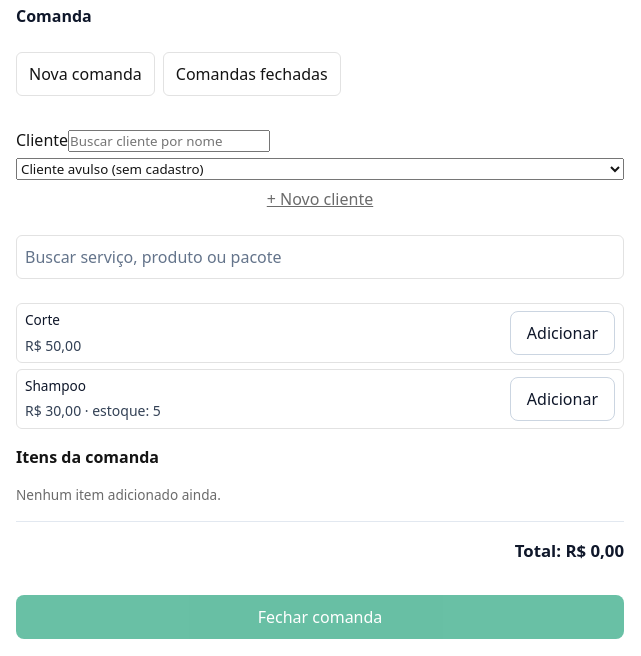
Test case: ComandaPage › maps an insufficient-stock conflict from checkout_close to a Portuguese message
Expected: the text "Shampoo" is shown, [25,376,86,395]
Click the button "Adicionar" in the row of "Shampoo" at (562, 399), box [510,377,615,421]
(page scrolled)
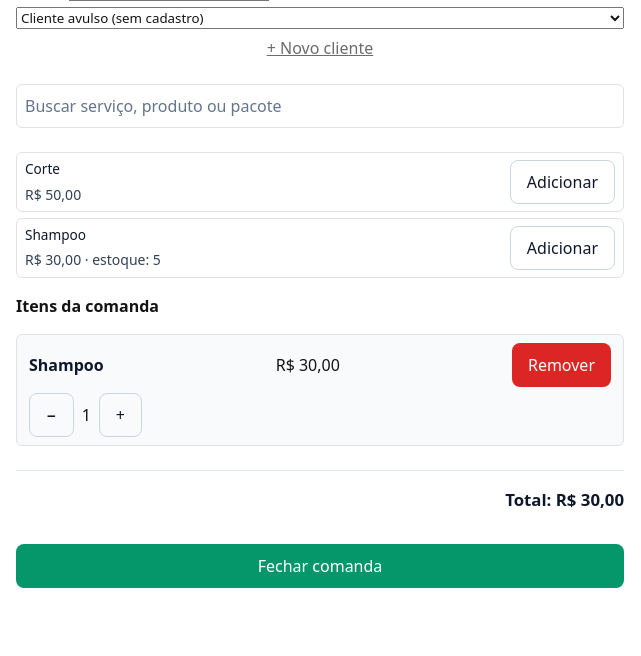
Click the button "Fechar comanda" at (320, 566), box [16,544,624,588]
(page scrolled)
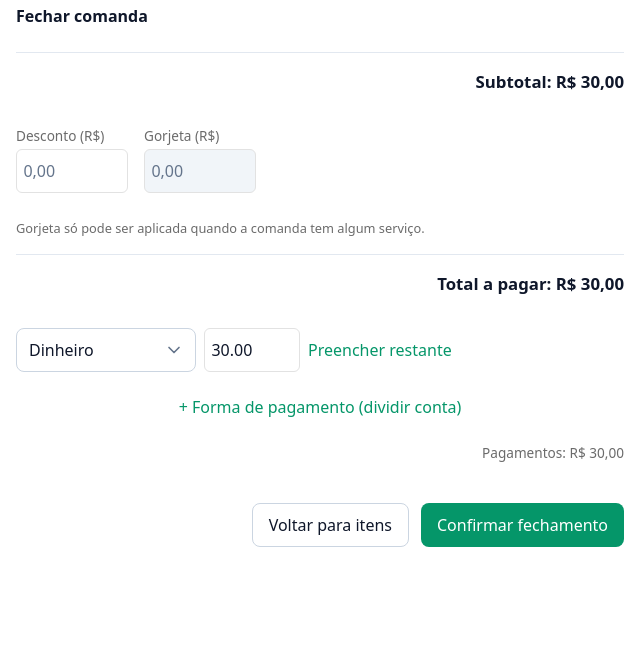
Click the button "Confirmar fechamento" at (522, 525), box [421,503,624,547]
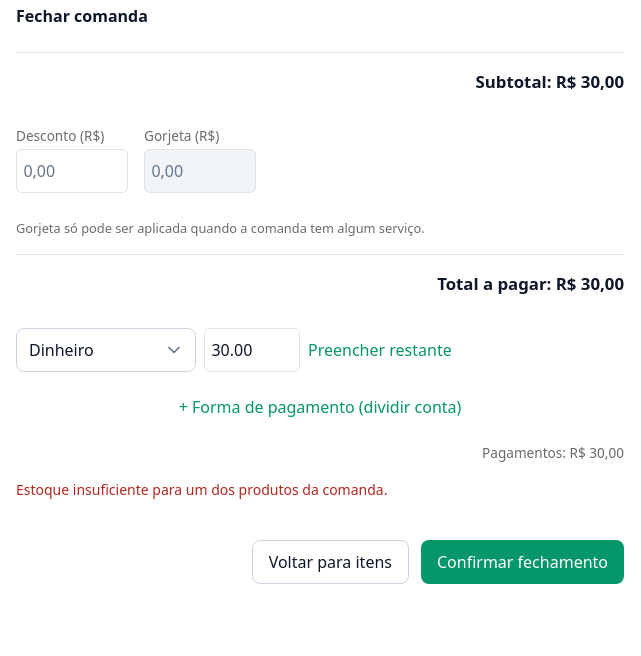
Expected: the text "Estoque insuficiente para um dos produtos da comanda." is shown, [16,480,387,499]
